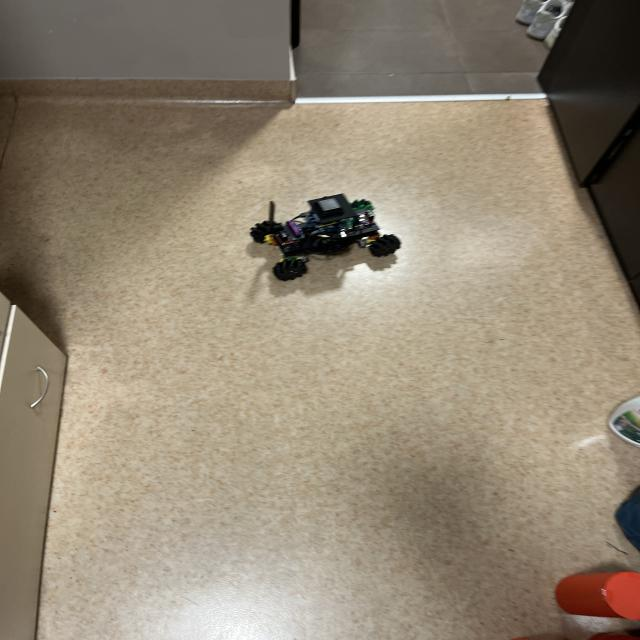robot: (250, 194, 400, 280)
